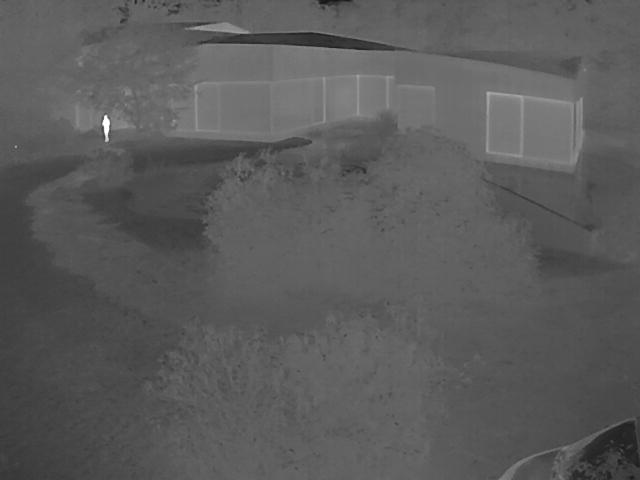person: (101, 114, 113, 142)
